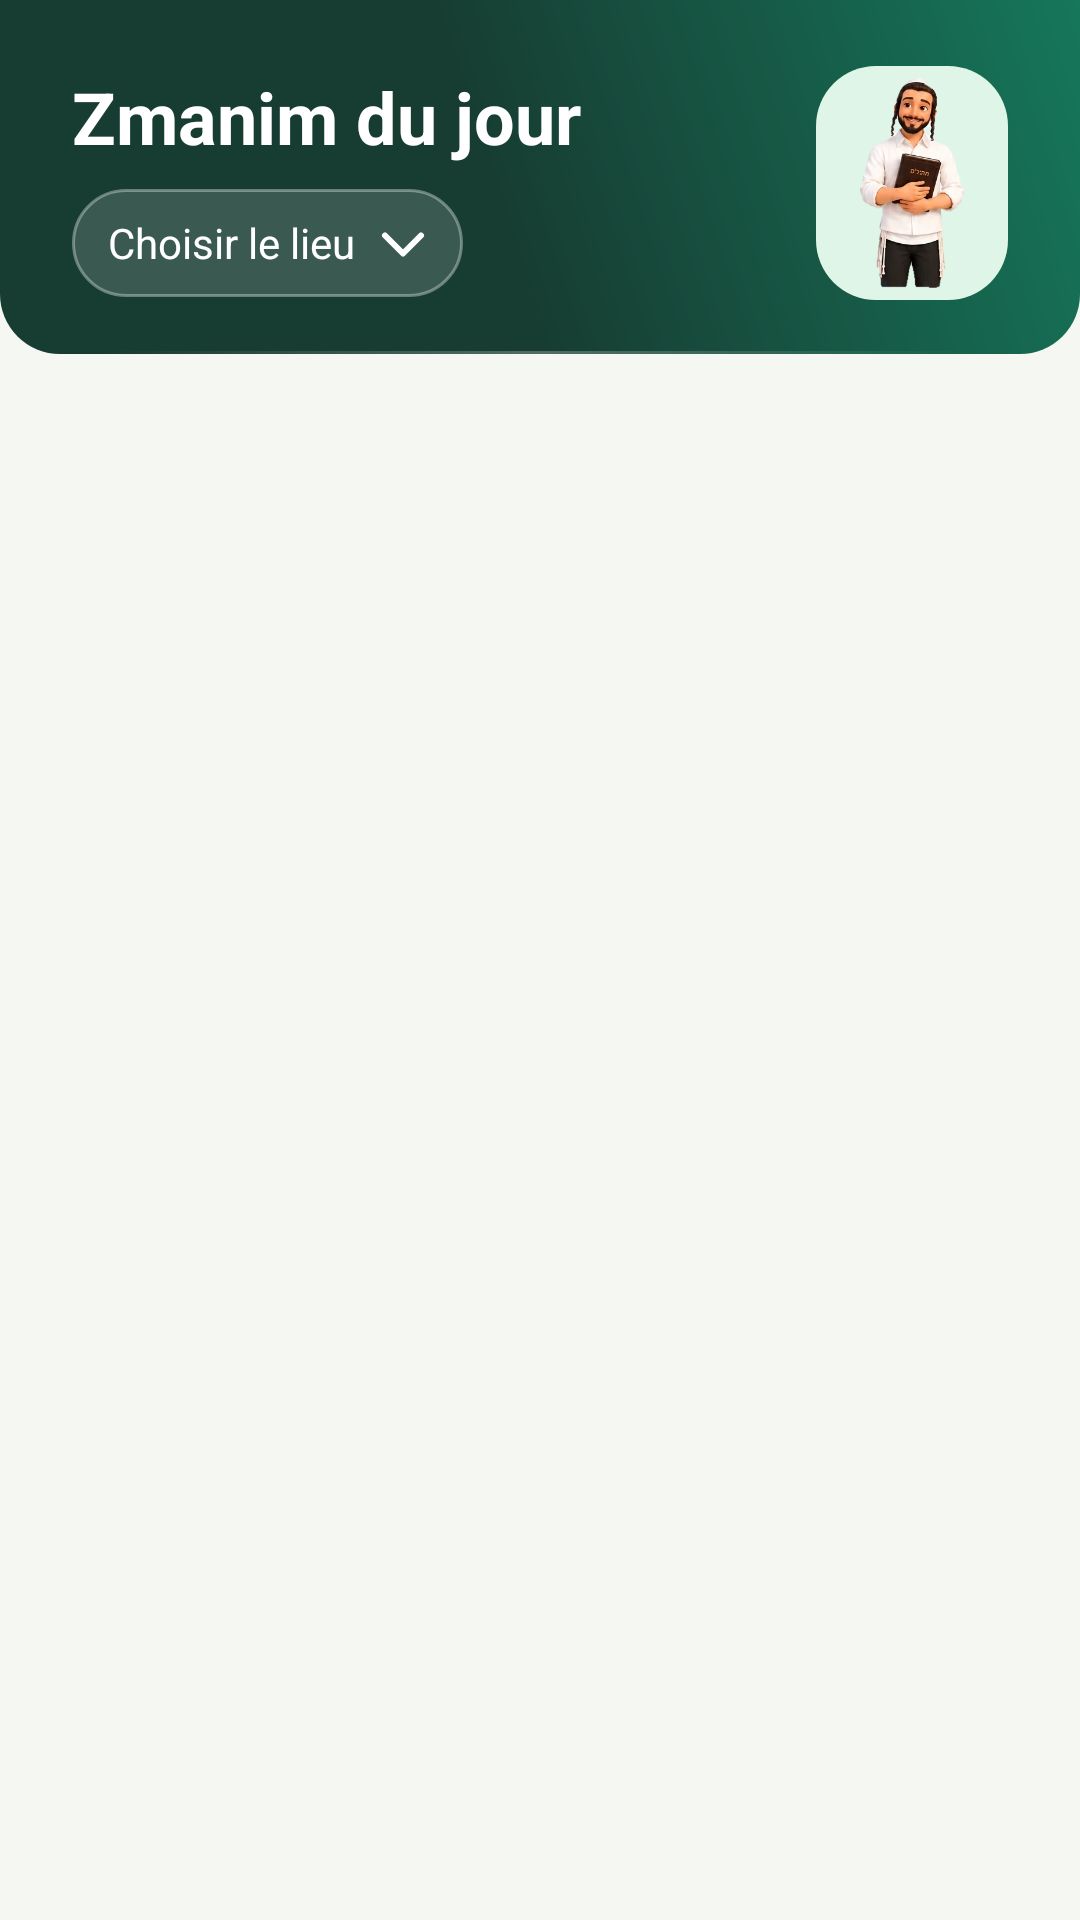

Screen size 1080w x 1920h. Icon name, then its center in pixels as [x,y]:
char torah: [911,183]
